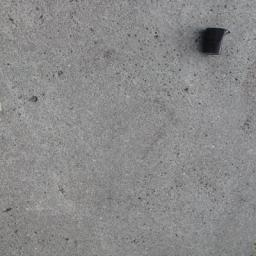FOD: (201, 24, 233, 60)
